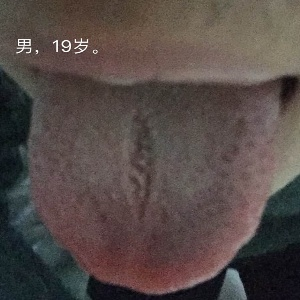st: (31, 87, 284, 296)
